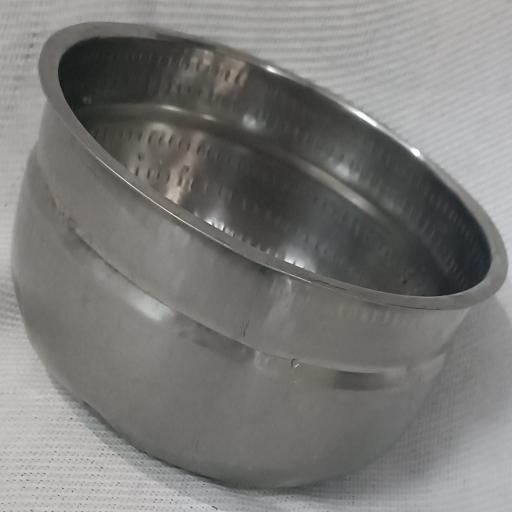vessel: (12, 23, 507, 486)
